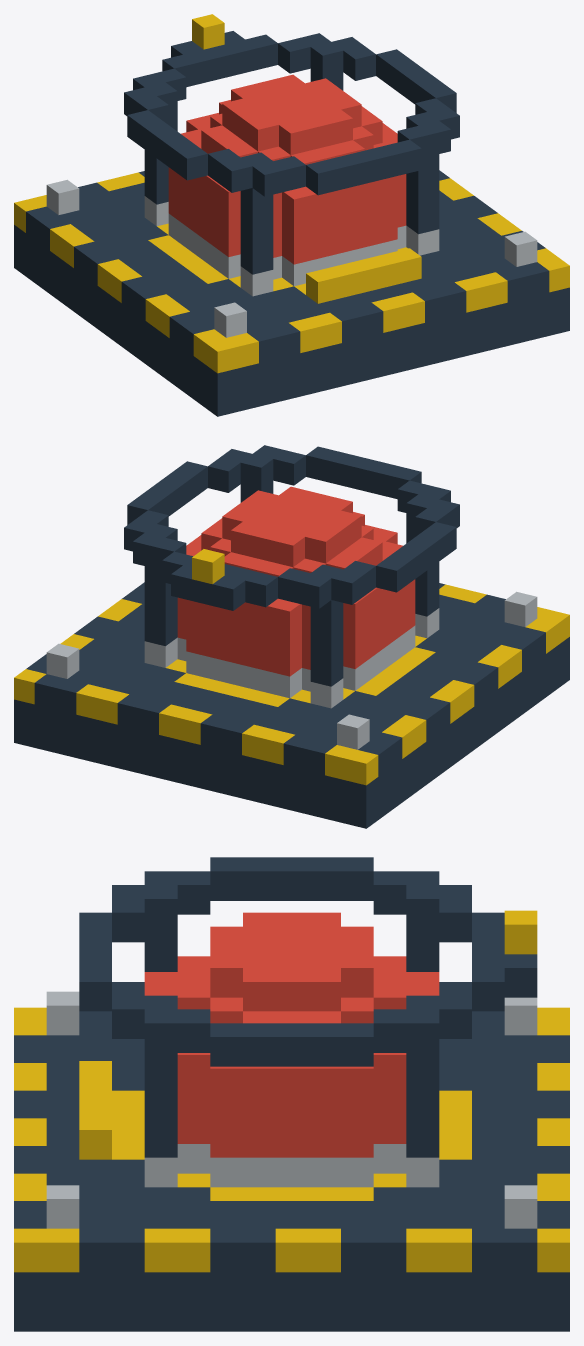
File: Reset Button.glb
3 views of the same model, one above another, from view 1: azimuth 30°, elevation 25°; view 2: azimuth 150°, elevation 25°; view 3: azimuth 270°, elevation 25° (orthographic). The views are drawn at different scales.
Parts seen in each view (by area): view 1: Boton_Reset_Voxel; view 2: Boton_Reset_Voxel; view 3: Boton_Reset_Voxel.
Boxes of the visible parts, x1,y1,x2,y2 form: Boton_Reset_Voxel: [14, 14, 569, 416]; Boton_Reset_Voxel: [14, 445, 569, 828]; Boton_Reset_Voxel: [14, 857, 569, 1331].
Size of the model in its own units: 1.7 by 1 by 1.7.
